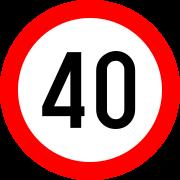Speed limit -40-: (18, 34, 156, 150)
